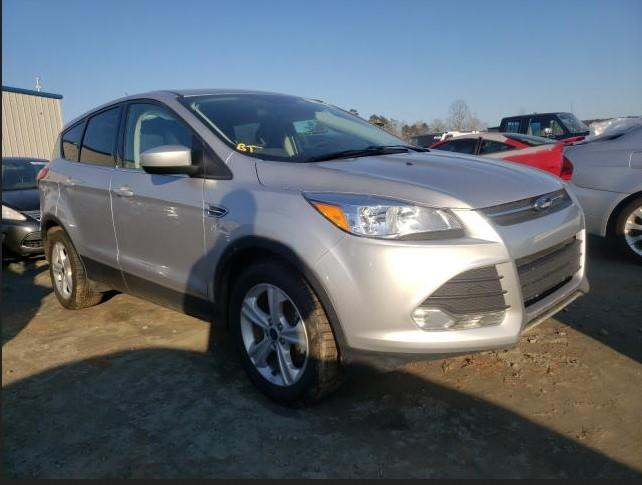Back-door: (56, 102, 123, 268)
Back-wheel: (44, 226, 104, 310)
Back-window: (79, 101, 124, 167), (63, 122, 83, 161)
Fender: (203, 151, 347, 304)
Front-bumper: (302, 184, 590, 383)
Front-door: (110, 99, 207, 302)
Front-wheel: (229, 264, 349, 408)
Front-window: (124, 103, 189, 169)
Grille: (516, 233, 582, 306), (484, 188, 572, 226)
Headlight: (304, 193, 470, 241)
Hood: (255, 148, 567, 211)
Mirror: (141, 145, 202, 176)
Quarter-panel: (38, 159, 60, 241)
Rocker-panel: (80, 255, 215, 323)
Roof: (60, 87, 291, 134)
Tail-light: (36, 167, 50, 185)
Windshield: (176, 95, 430, 162)
